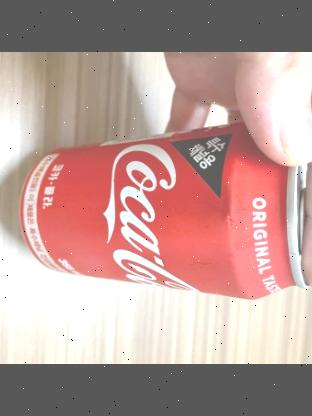Can: (18, 122, 312, 301)
